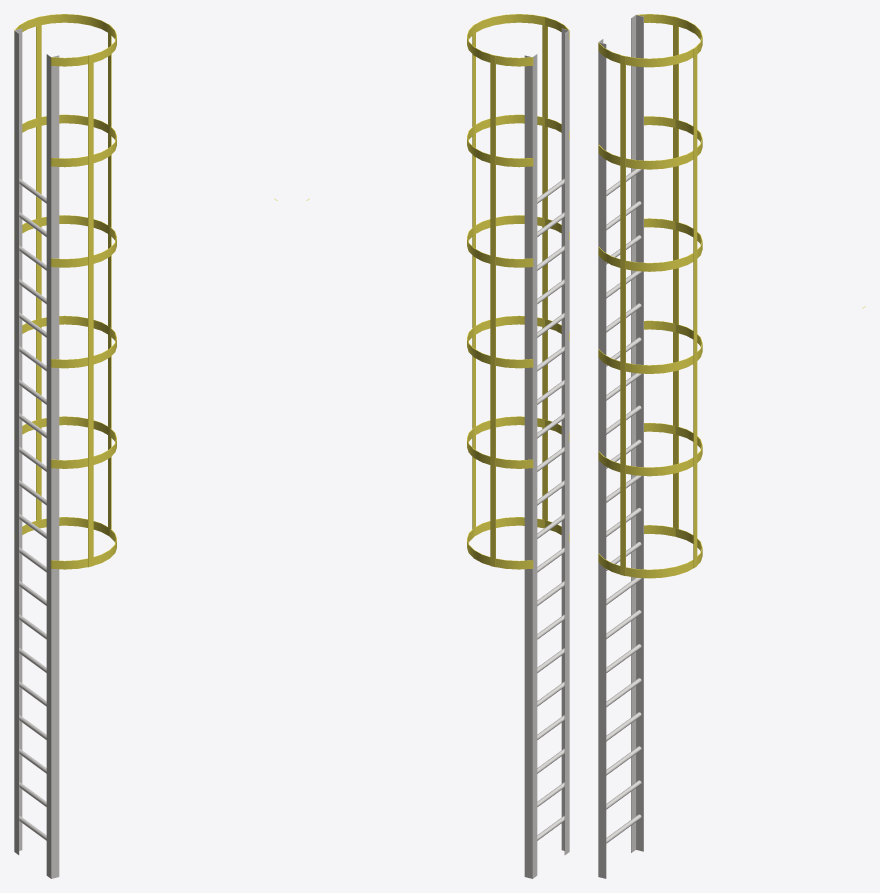
File: ladder.dae
The picture shows the model from 3 angles, left to right: view 1: azimuth 30°, elevation 25°; view 2: azimuth 150°, elevation 25°; view 3: azimuth 330°, elevation 25°; orthographic projection.
Visible parts, largest first — view 1: Model; view 2: Model; view 3: Model.
Part boxes in pixels (x1=…): Model: x1=14, y1=14, x2=277, y2=878; Model: x1=306, y1=14, x2=569, y2=878; Model: x1=598, y1=14, x2=865, y2=878.
Bounding box in the file's own units: 91.16 × 34 × 294.
